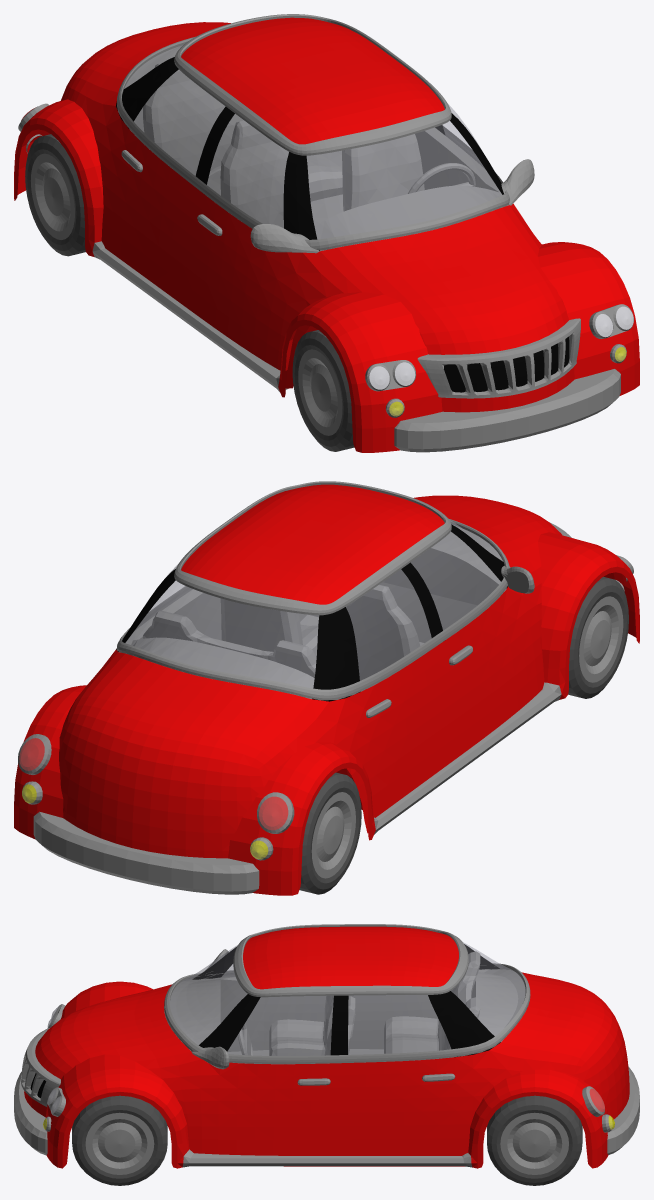
File: sweethome3d-katorlegaz-concept-sedan-01-58.glb
3 renders of one model, top to bottom at view 1: azimuth 30°, elevation 25°; view 2: azimuth 150°, elevation 25°; view 3: azimuth 270°, elevation 25°, orthographic. The views are drawn at different scales.
Parts seen in each view (by area): view 1: Car_body.001_Mesh.001_Car, Car_body.001_Mesh.001_Glass, Car_fenders_Car_fenders_Car, Car_body.002_Mesh.002_Chrome, Front_seats_Front_seats_Interior, Bumper_Bumper_Chrome, Interior_Interior_Interior, Car_body.001_Mesh.001_Black_matte, Rear_seats_Rear_seats_Interior, Car_body_Mesh_Chrome, Car_fenders_Car_fenders_Chrome, Tire.001_Tire.001_Chrome (+9 smaller); view 2: Car_body.001_Mesh.001_Car, Car_body.001_Mesh.001_Glass, Car_fenders_Car_fenders_Car, Interior_Interior_Interior, Car_body.002_Mesh.002_Chrome, Bumper_Bumper_Chrome, Front_seats_Front_seats_Interior, Car_body.001_Mesh.001_Black_matte, Car_fenders_Car_fenders_Chrome, Rear_seats_Rear_seats_Interior, Tire.001_Tire.001_Chrome, Tire.002_Tire.002_Chrome (+5 smaller); view 3: Car_body.001_Mesh.001_Car, Car_body.001_Mesh.001_Glass, Car_fenders_Car_fenders_Car, Interior_Interior_Interior, Car_body.002_Mesh.002_Chrome, Car_body.001_Mesh.001_Black_matte, Tire_Tire_Tire_Rubber, Tire.003_Tire.003_Tire_Rubber, Tire_Tire_Chrome, Tire.003_Tire.003_Chrome, Car_fenders_Car_fenders_Chrome, Rear_seats_Rear_seats_Interior (+6 smaller).
Boxes of the visible parts, x1,y1,x2,y2 form: Car_body.001_Mesh.001_Car: (61,17,574,412); Car_body.001_Mesh.001_Glass: (124,44,507,250); Car_fenders_Car_fenders_Car: (14,99,639,452); Car_body.002_Mesh.002_Chrome: (117,14,509,250); Front_seats_Front_seats_Interior: (220,120,424,227); Bumper_Bumper_Chrome: (394,369,620,452); Interior_Interior_Interior: (124,45,508,251); Car_body.001_Mesh.001_Black_matte: (116,57,569,392); Rear_seats_Rear_seats_Interior: (143,62,342,201); Car_body_Mesh_Chrome: (417,318,580,398); Car_fenders_Car_fenders_Chrome: (92,241,287,391); Tire.001_Tire.001_Chrome: (298,349,342,435); Car_body.001_Mesh.001_Car: (59,484,561,858); Car_body.001_Mesh.001_Glass: (126,519,506,698); Car_fenders_Car_fenders_Car: (14,532,639,895); Interior_Interior_Interior: (119,525,506,699); Car_body.002_Mesh.002_Chrome: (117,481,509,700); Bumper_Bumper_Chrome: (33,811,259,894); Front_seats_Front_seats_Interior: (220,584,420,680); Car_body.001_Mesh.001_Black_matte: (116,524,507,701); Car_fenders_Car_fenders_Chrome: (374,682,561,834); Rear_seats_Rear_seats_Interior: (143,610,316,677); Tire.001_Tire.001_Chrome: (579,596,623,682); Tire.002_Tire.002_Chrome: (311,792,355,878); Car_body.001_Mesh.001_Car: (24,926,629,1166); Car_body.001_Mesh.001_Glass: (170,942,525,1055); Car_fenders_Car_fenders_Car: (45,981,608,1168); Interior_Interior_Interior: (164,969,529,1064); Car_body.002_Mesh.002_Chrome: (164,924,530,1064); Car_body.001_Mesh.001_Black_matte: (30,944,500,1098); Tire_Tire_Tire_Rubber: (72,1095,167,1185); Tire.003_Tire.003_Tire_Rubber: (487,1095,582,1185); Tire_Tire_Chrome: (85,1112,154,1174); Tire.003_Tire.003_Chrome: (500,1112,568,1174); Car_fenders_Car_fenders_Chrome: (182,1149,472,1167); Rear_seats_Rear_seats_Interior: (384,951,480,1053).
Bounding box in the file's own units: 10.42 × 8.45 × 25.69.
